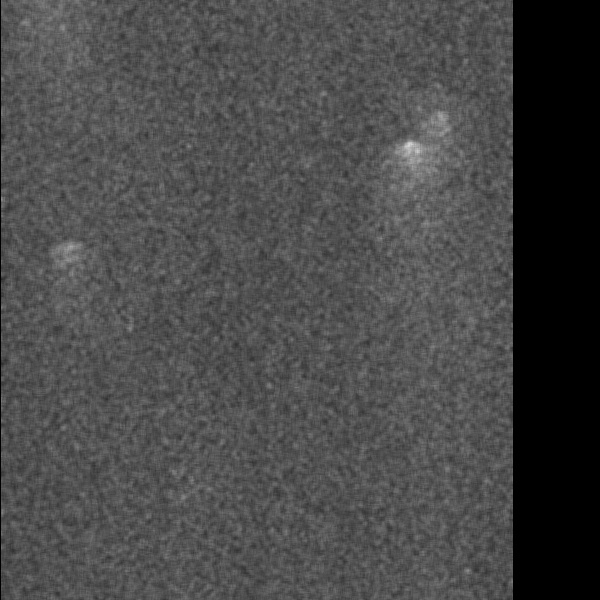spark: (393, 173, 443, 283), (76, 451, 148, 494), (490, 409, 508, 532)
